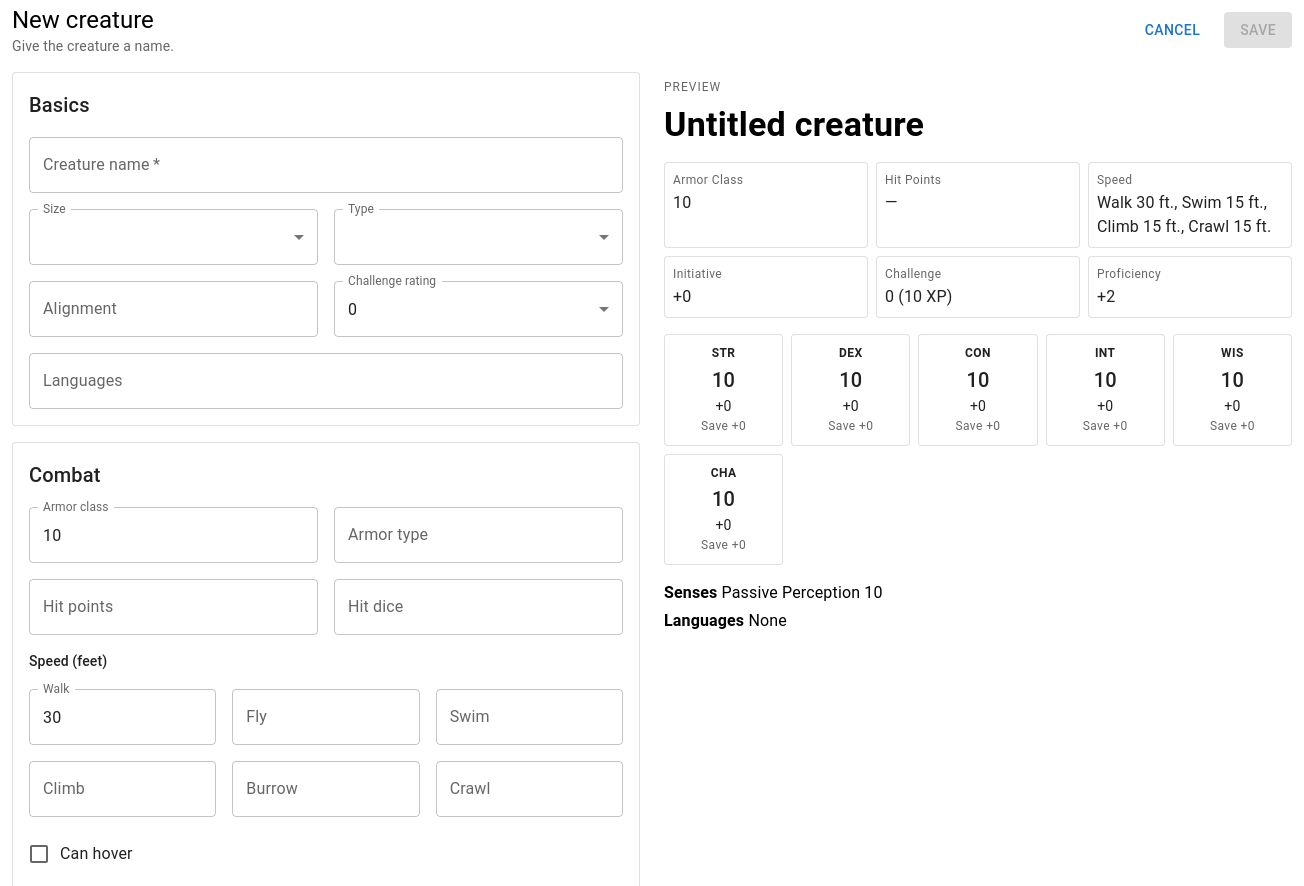
Test case: CreatureEditor › won't save without a name, and previews the creature as it's filled in
The image size is (1304, 886).
Expected: the button "Save" is disabled, [1224,12,1292,48]
Expected: the heading "Untitled creature" is shown, [664,104,924,144]
In the field labelled "Creature name *": (326, 165) [29,137,623,193], type "Gribble"
(page scrolled)
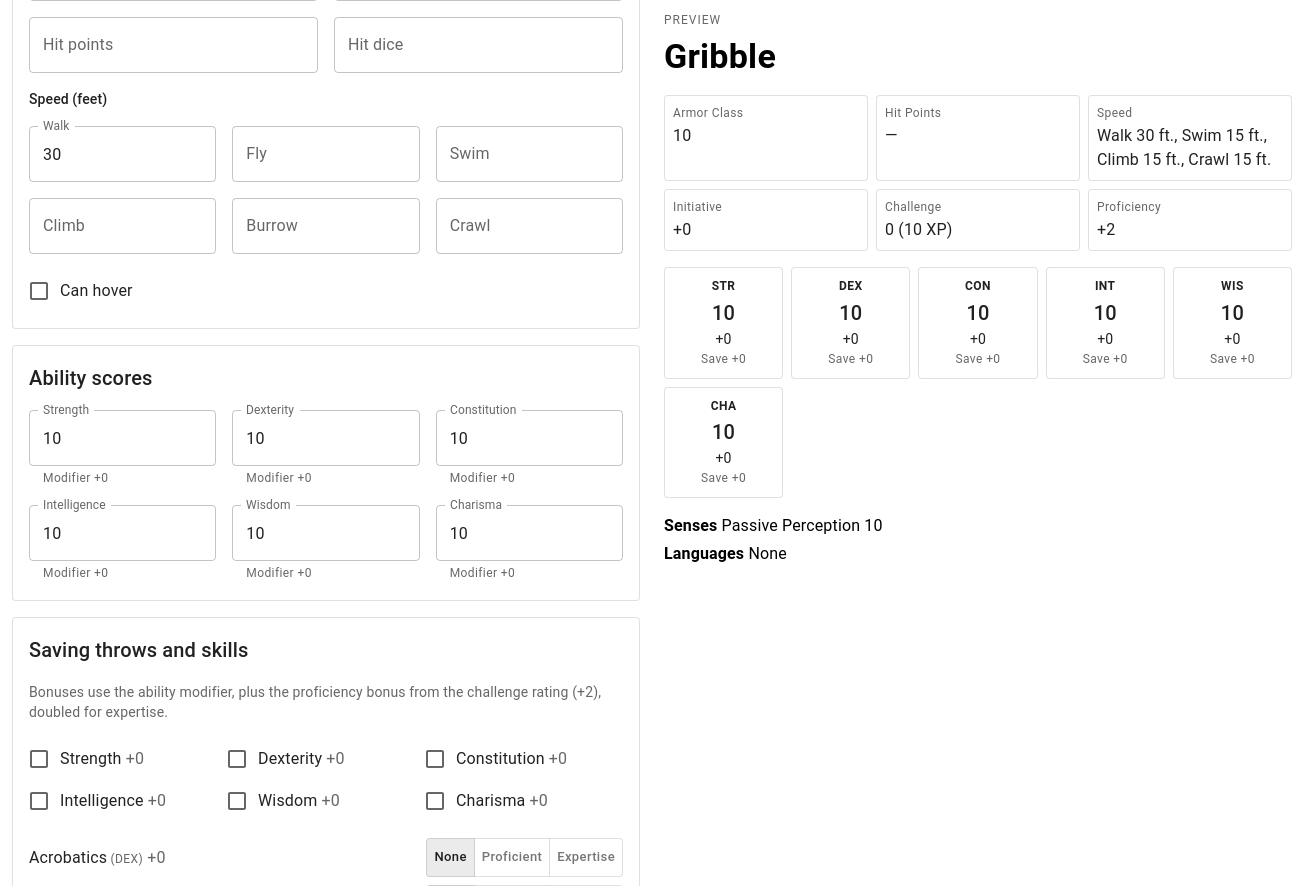
Replace the text in the field labelled "Strength" with "18": (123, 438) [29,410,216,466]
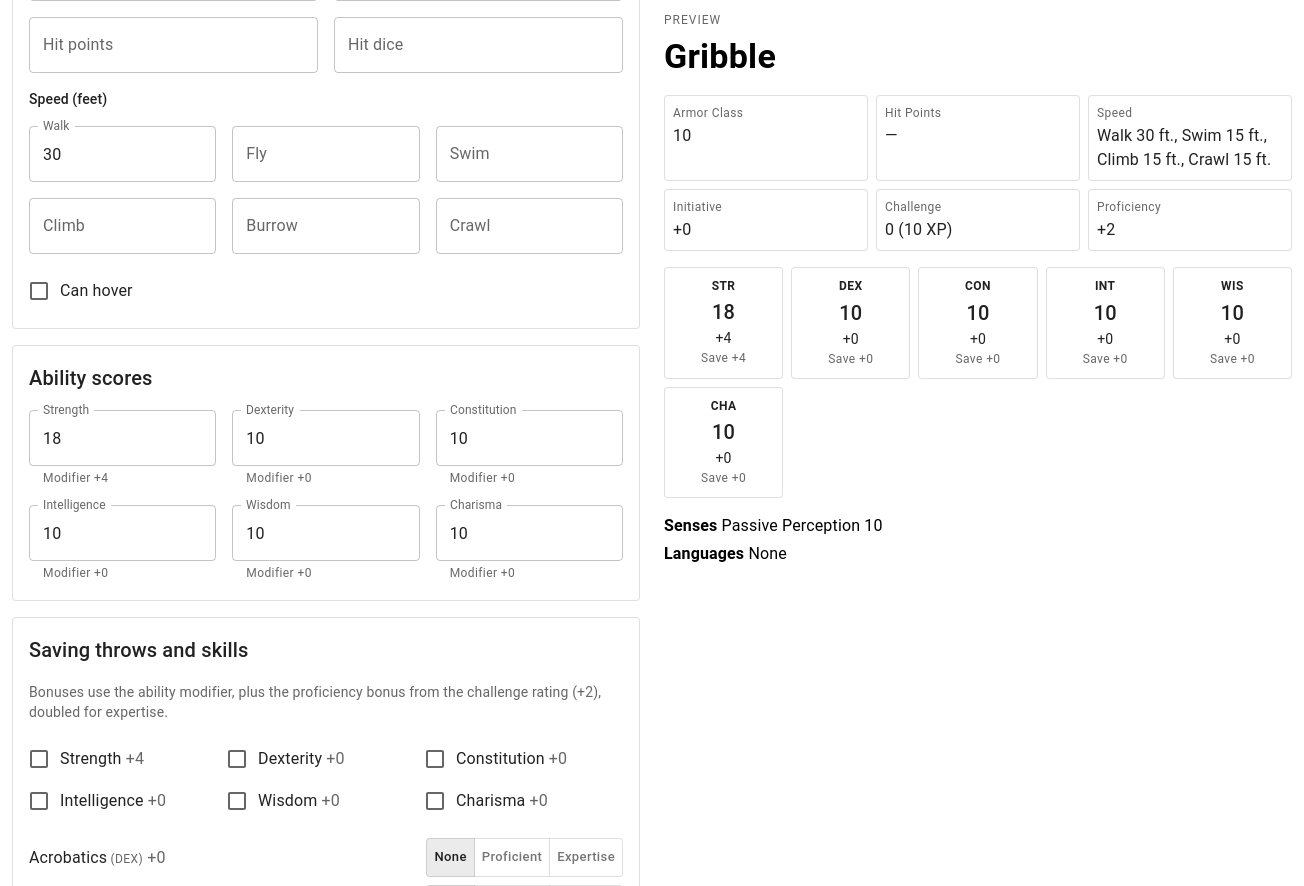
Now the heading "Gribble" is shown, box [664,36,776,76]
Now the text "Modifier +4" is shown, box [43,472,108,486]
